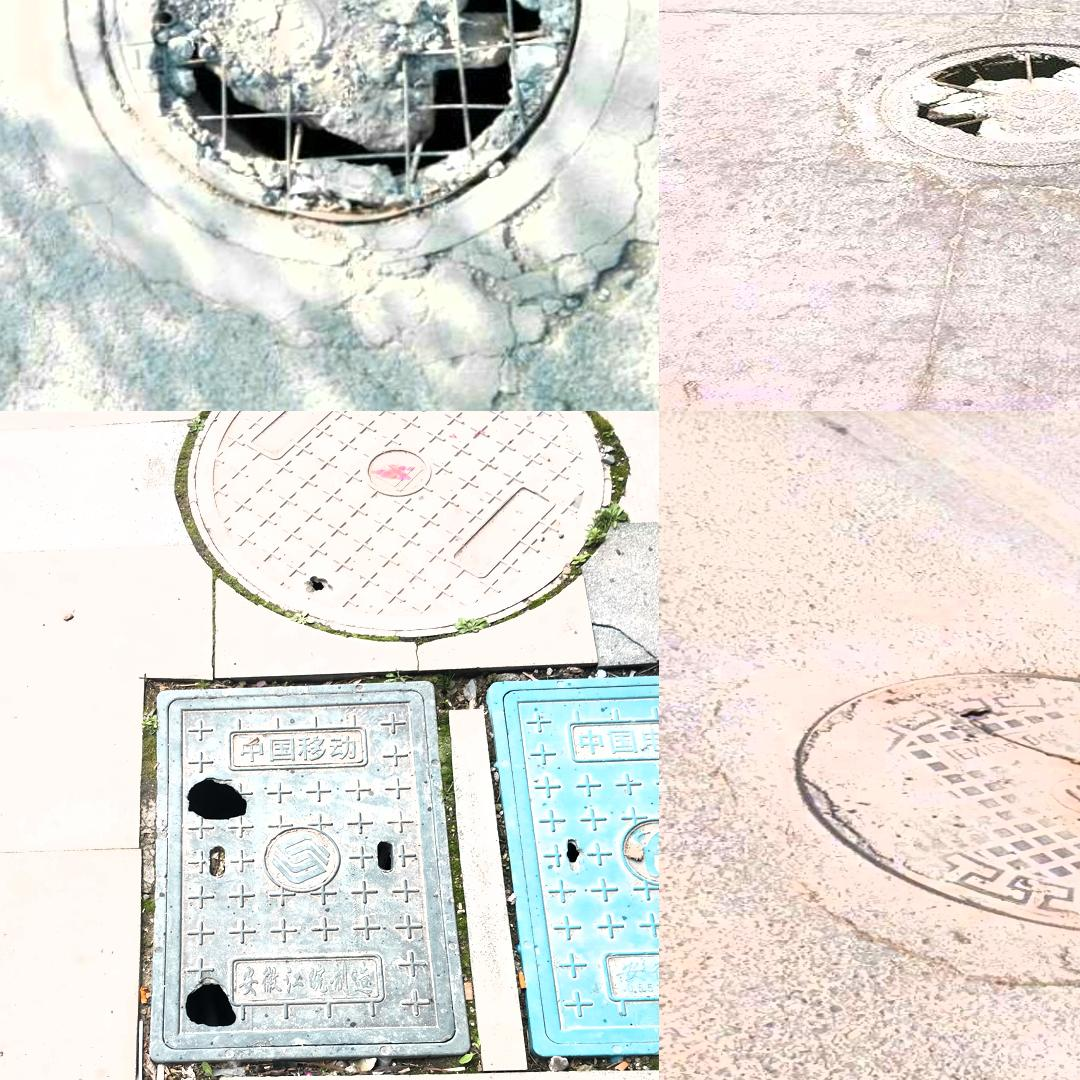broke: (66, 0, 630, 260), (725, 653, 1080, 1013), (149, 675, 473, 1054), (186, 411, 615, 638), (484, 673, 659, 1056), (815, 14, 1080, 211)
